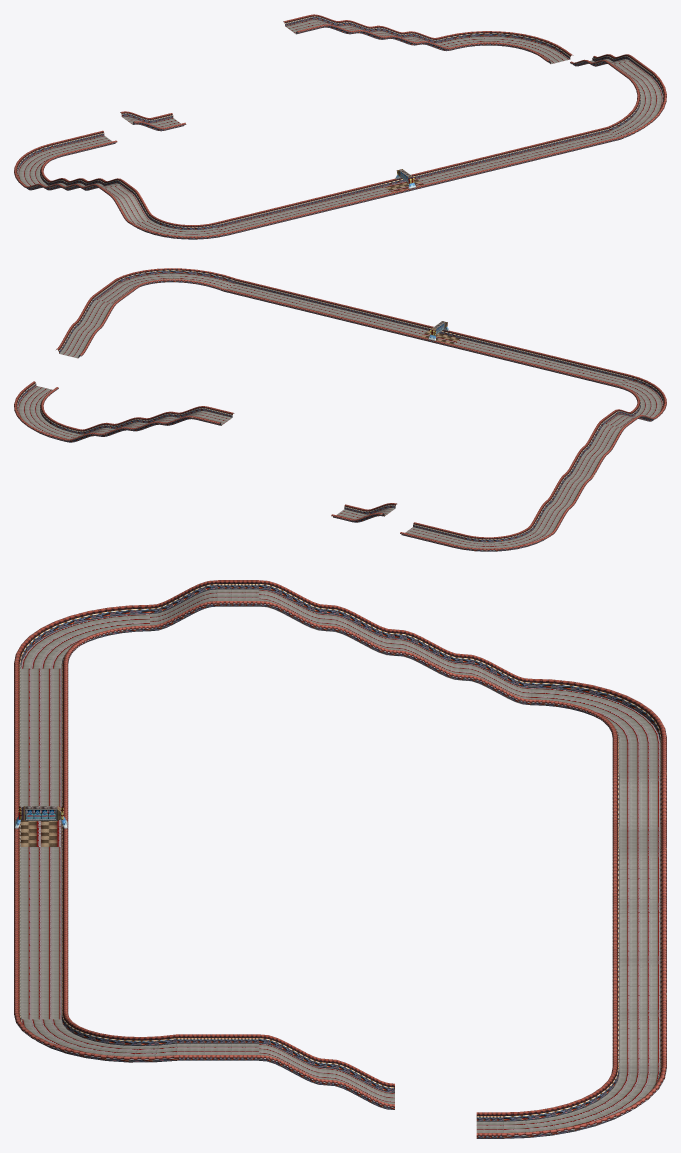
3 renders of one model, top to bottom at view 1: azimuth 30°, elevation 25°; view 2: azimuth 150°, elevation 25°; view 3: azimuth 270°, elevation 25°, orthographic. The views are drawn at different scales.
Parts seen in each view (by area): view 1: Road_Main.003, Wall_Top.003, Wall_Main.002; view 2: Road_Main.003, Wall_Top.003, Wall_Main.002; view 3: Road_Main.003, Wall_Top.003, Wall_Main.002, RoadSecond.004.
Boxes of the visible parts, x1,y1,x2,y2 form: Road_Main.003: (18,19,662,236); Wall_Top.003: (14,14,666,238); Wall_Main.002: (17,16,663,239); Road_Main.003: (18,273,662,548); Wall_Top.003: (14,268,666,550); Wall_Main.002: (17,270,663,551); Road_Main.003: (20,589,660,1132); Wall_Top.003: (14,580,666,1136); Wall_Main.002: (19,584,666,1138); RoadSecond.004: (20,819,61,846).
Size of the model in its own units: 83020 by 10280 by 48000.
11 materials, 11 textured.
